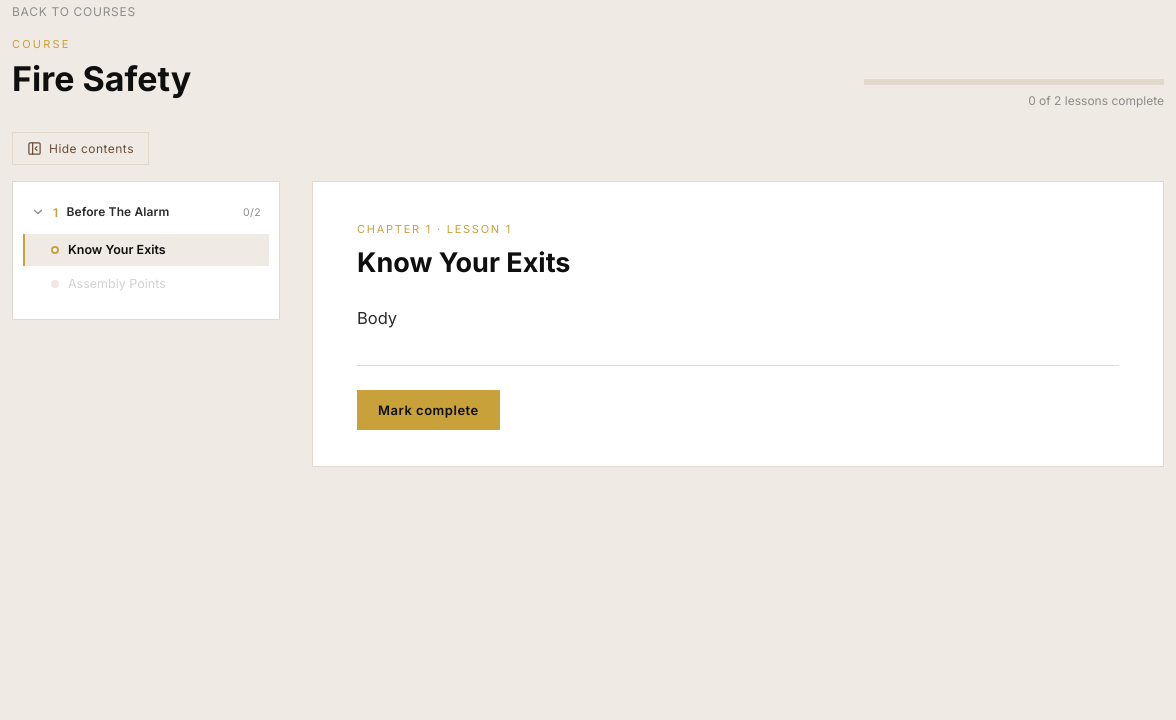
Test: completing a lesson › shows the certificate hand-off when the course finishes
Expected: the heading "Know Your Exits" is shown, [357, 246, 570, 279]
Click the button "Mark complete": x=428, y=410 [357, 390, 500, 430]
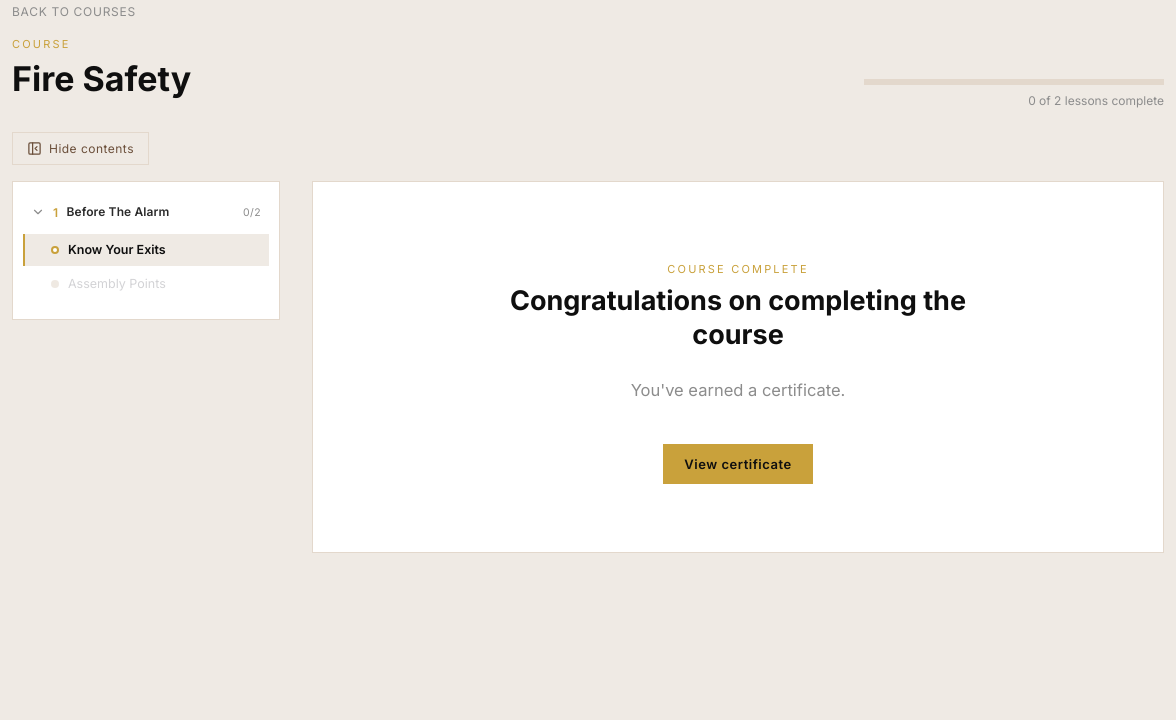
Result: the heading "Congratulations on completing the course" is shown at [506, 284, 970, 352]
Result: the button "View certificate" is shown at [663, 444, 813, 484]
